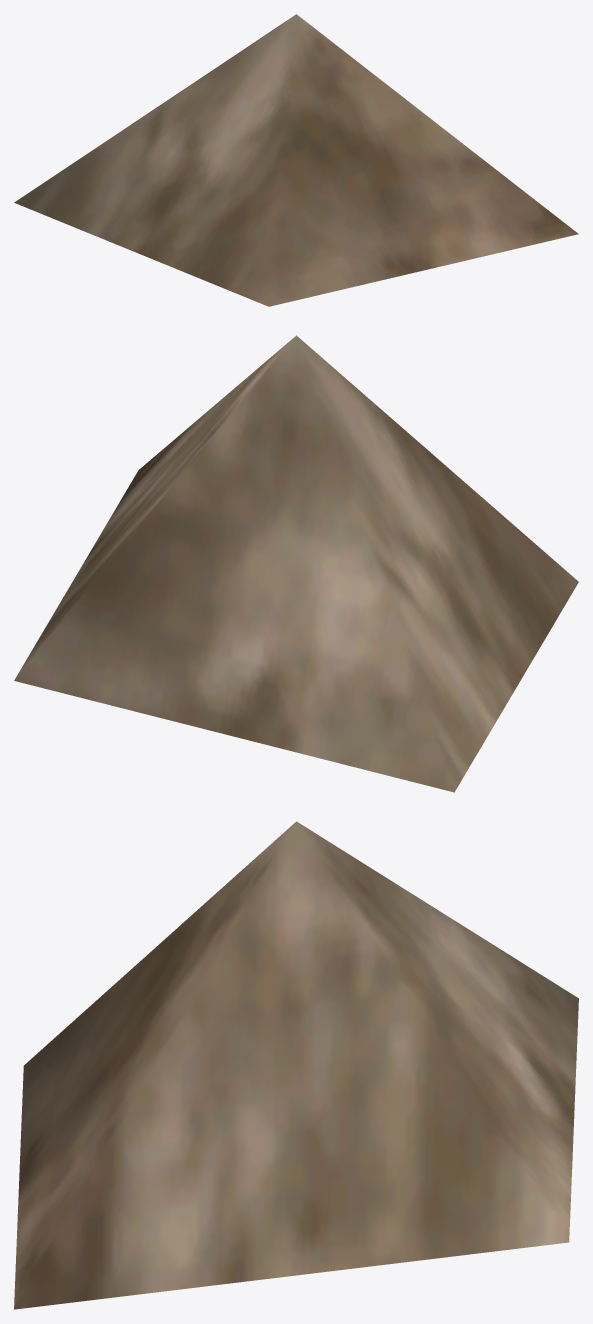
The model's file is OVERHILL_A_01_PLANE18.fbx.
3 views of the same model, one above another, from view 1: azimuth 30°, elevation 25°; view 2: azimuth 150°, elevation 25°; view 3: azimuth 270°, elevation 25° (orthographic). The views are drawn at different scales.
Parts seen in each view (by area): view 1: OVERHILL_A_01_PLANE18; view 2: OVERHILL_A_01_PLANE18; view 3: OVERHILL_A_01_PLANE18.
Boxes of the visible parts, x1,y1,x2,y2 form: OVERHILL_A_01_PLANE18: [14, 14, 578, 306]; OVERHILL_A_01_PLANE18: [14, 335, 578, 792]; OVERHILL_A_01_PLANE18: [14, 821, 578, 1309].
Bounding box in the file's own units: 1263 × 630 × 969.
Materials: 1 (1 with a texture image).
